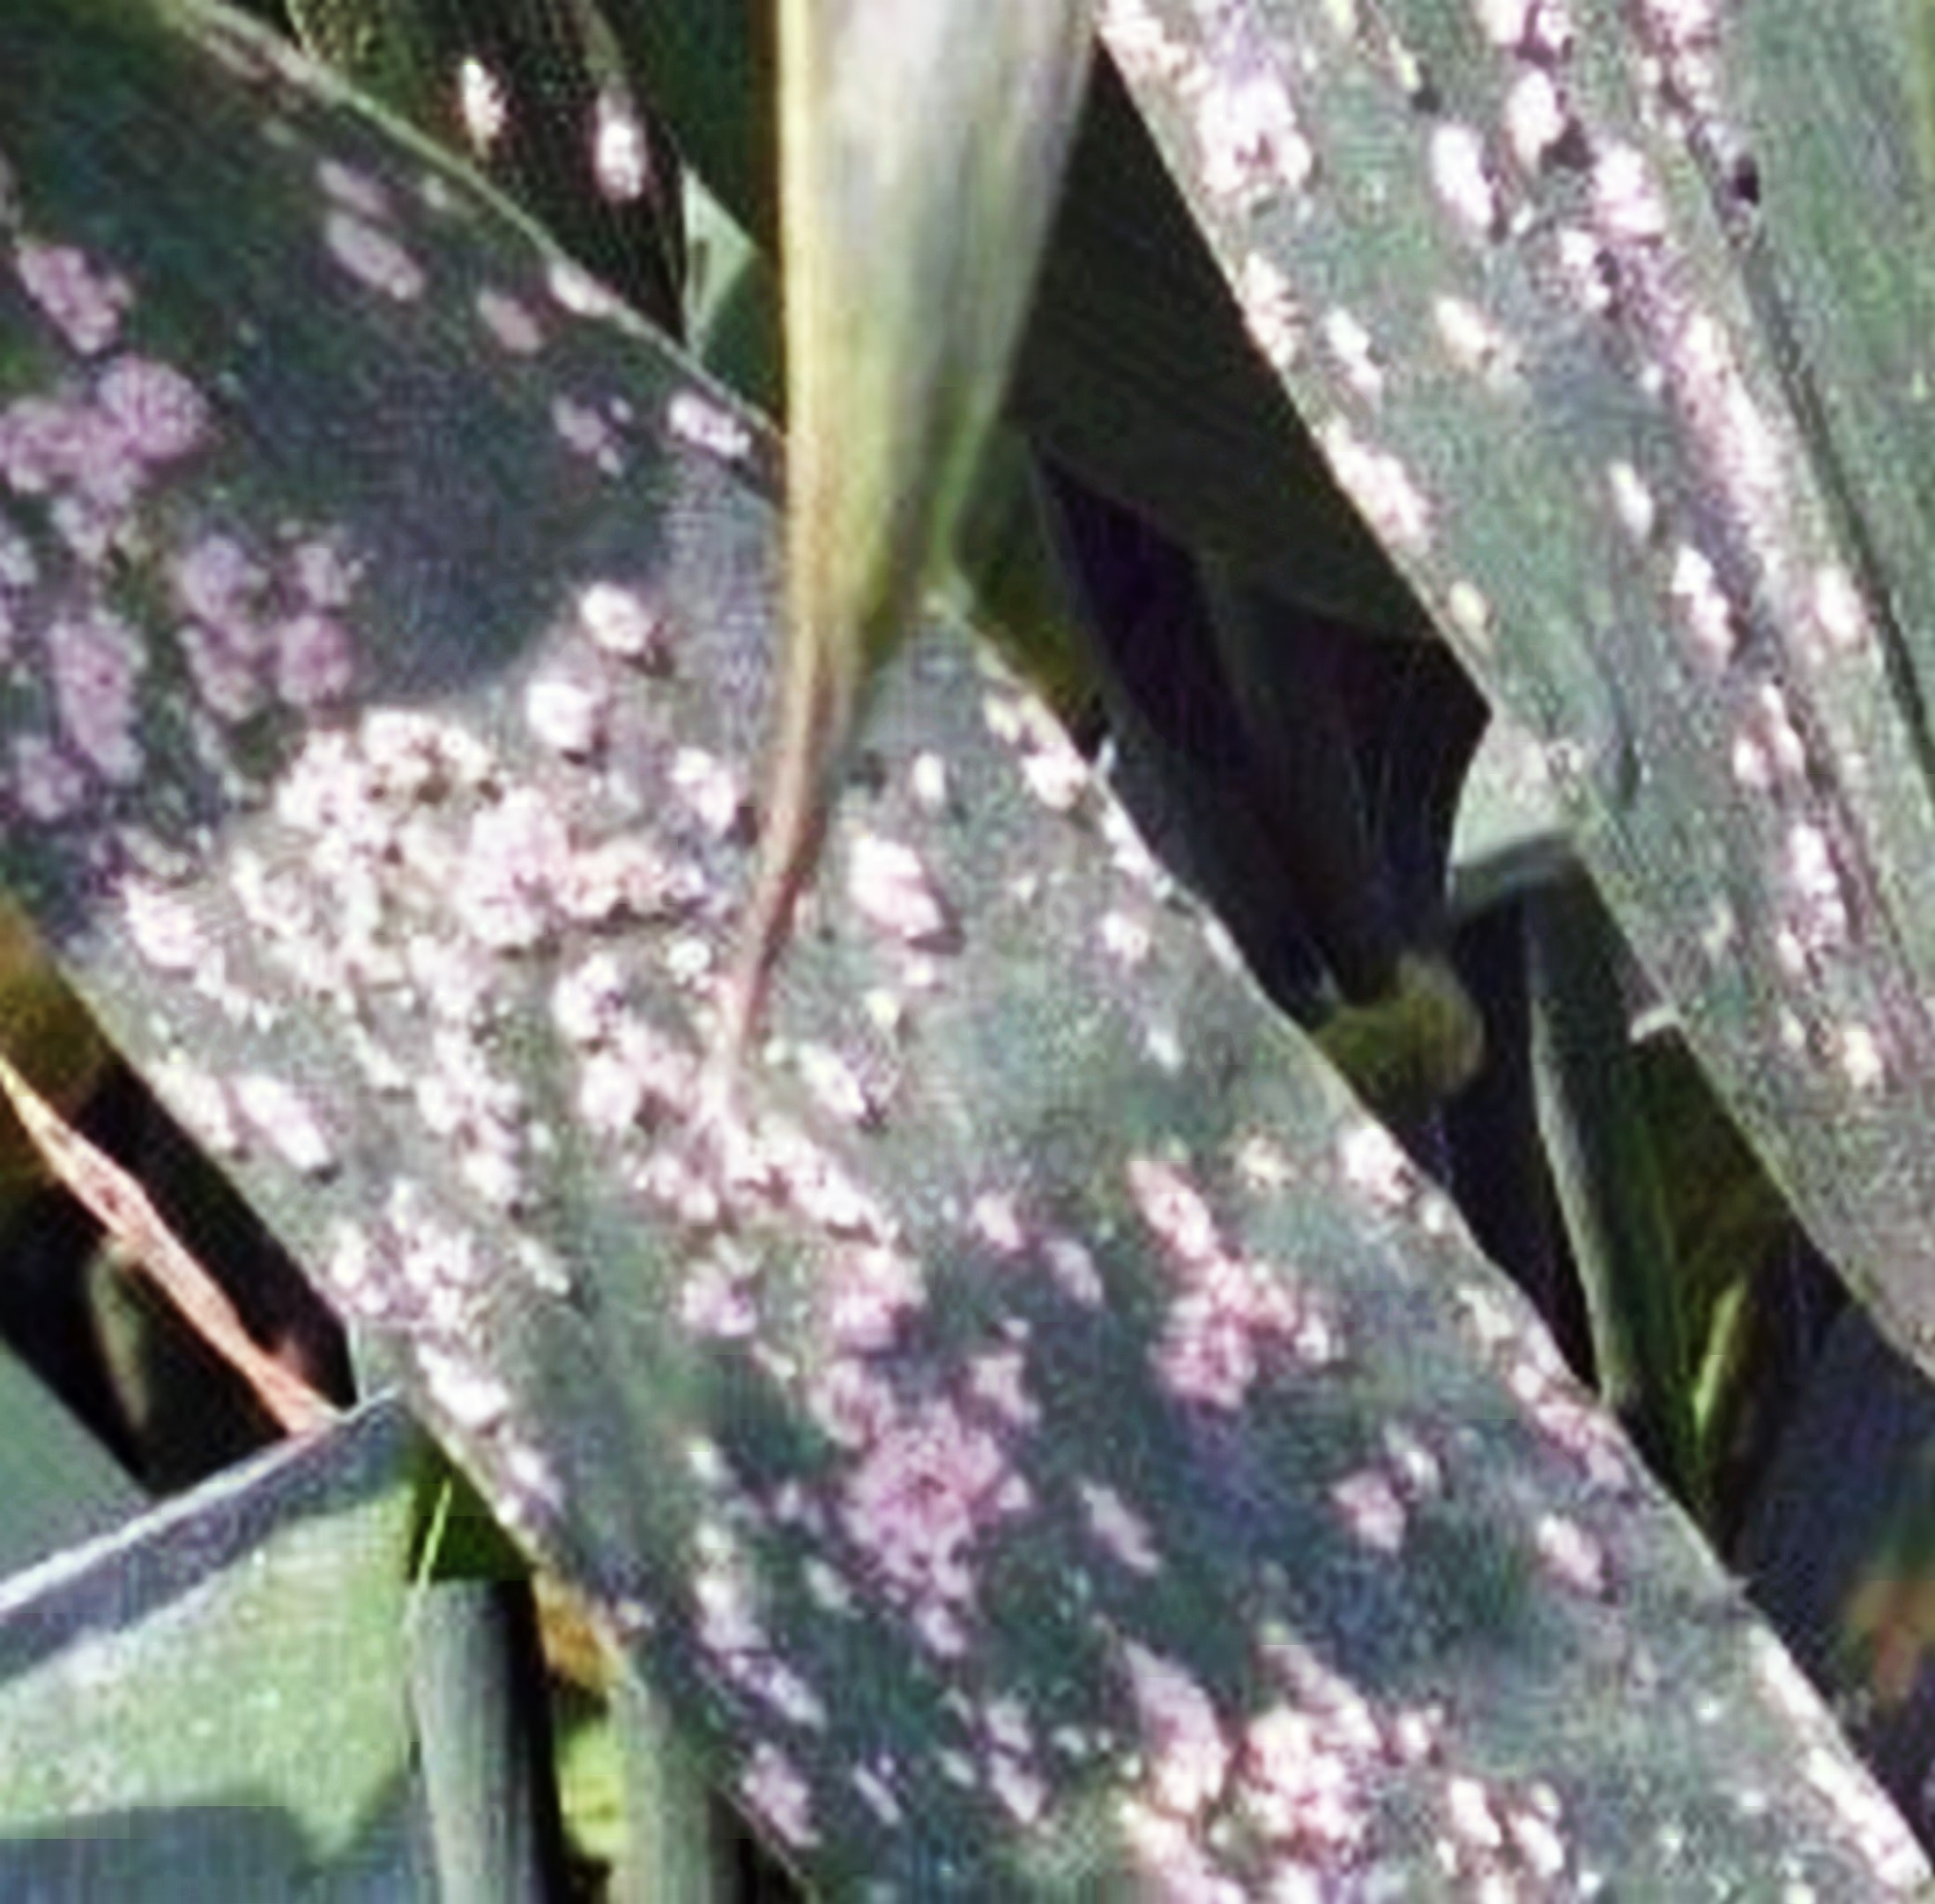Powdery Mildew: (117, 502, 1618, 1864)
